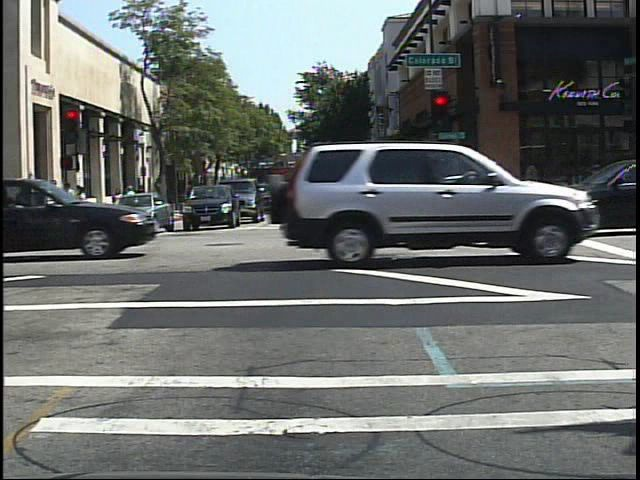person: (120, 181, 140, 224), (135, 181, 150, 218)
